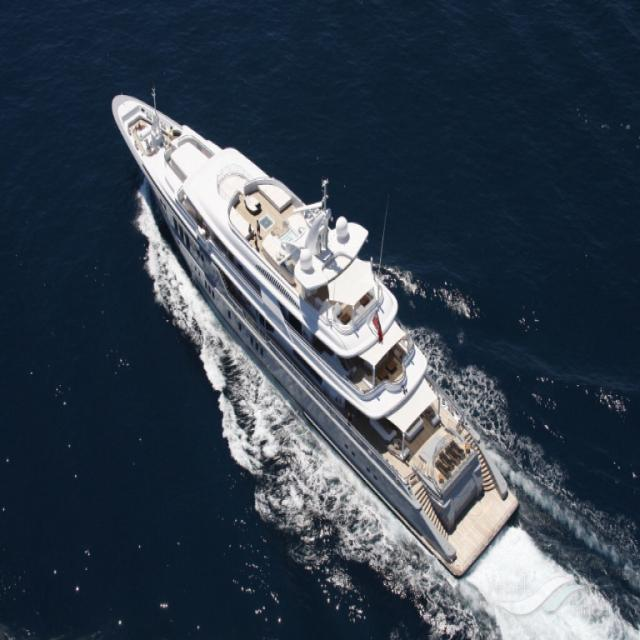Yacht: (110, 90, 519, 563)
